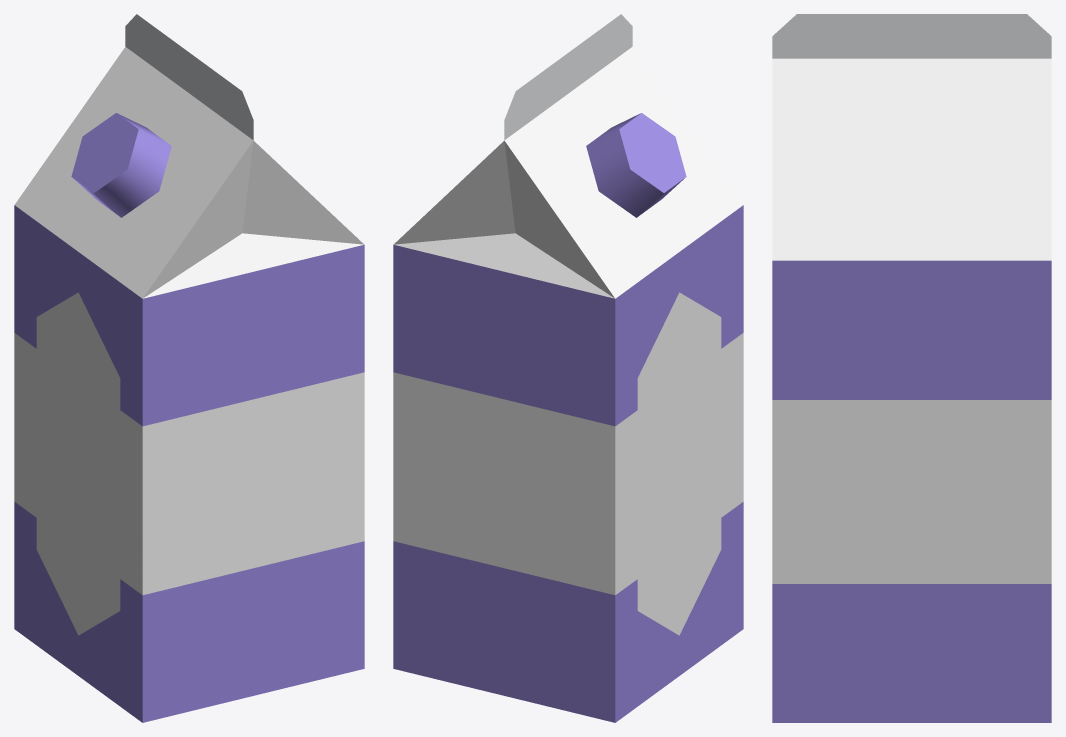
Rendered from carton.GLB.
3 renders of one model, left to right at view 1: azimuth 30°, elevation 25°; view 2: azimuth 150°, elevation 25°; view 3: azimuth 270°, elevation 25°, orthographic. The views are drawn at different scales.
Visible parts, largest first — view 1: carton; view 2: carton; view 3: carton.
Part boxes in pixels (x1=…): carton: x1=14, y1=14, x2=364, y2=722; carton: x1=393, y1=14, x2=743, y2=722; carton: x1=772, y1=14, x2=1051, y2=722.
Bounding box in the file's own units: 0.23 × 0.5905 × 0.23.
